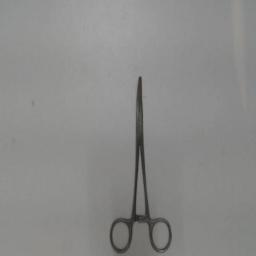Crile Artery Forceps: (106, 70, 174, 254)
